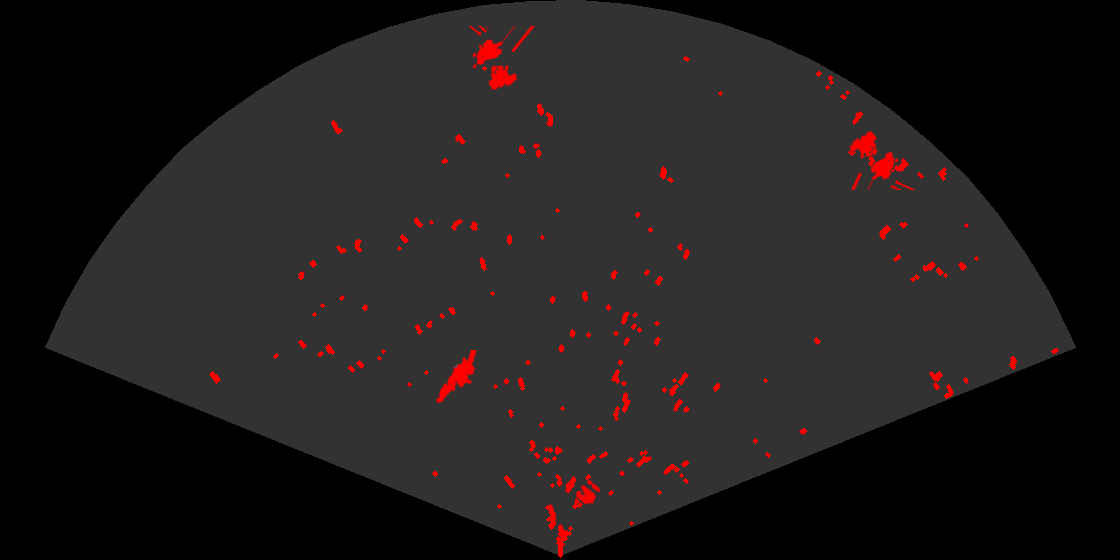ball: (574, 478, 602, 506)
cage: (467, 26, 535, 91), (848, 130, 915, 190)
frogman: (435, 350, 478, 405)
